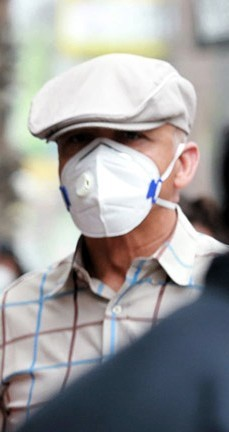with_mask: (57, 119, 193, 235)
